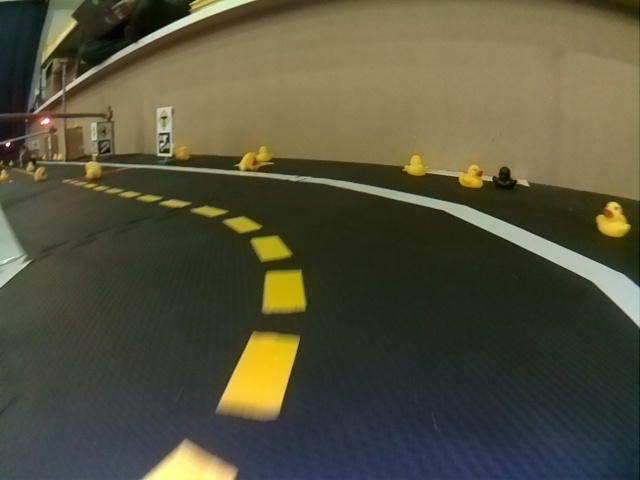Duckie: (596, 202, 625, 238), (458, 165, 482, 188), (492, 167, 517, 189), (408, 156, 428, 175), (85, 161, 102, 180), (241, 154, 259, 170), (34, 167, 48, 181), (260, 146, 273, 161), (176, 146, 188, 160), (26, 162, 34, 171), (57, 155, 65, 162)
Intersection sign: (157, 109, 171, 127), (99, 125, 111, 138)
QR code: (158, 132, 170, 156), (100, 140, 111, 153)
Traffic light: (40, 116, 50, 126)
